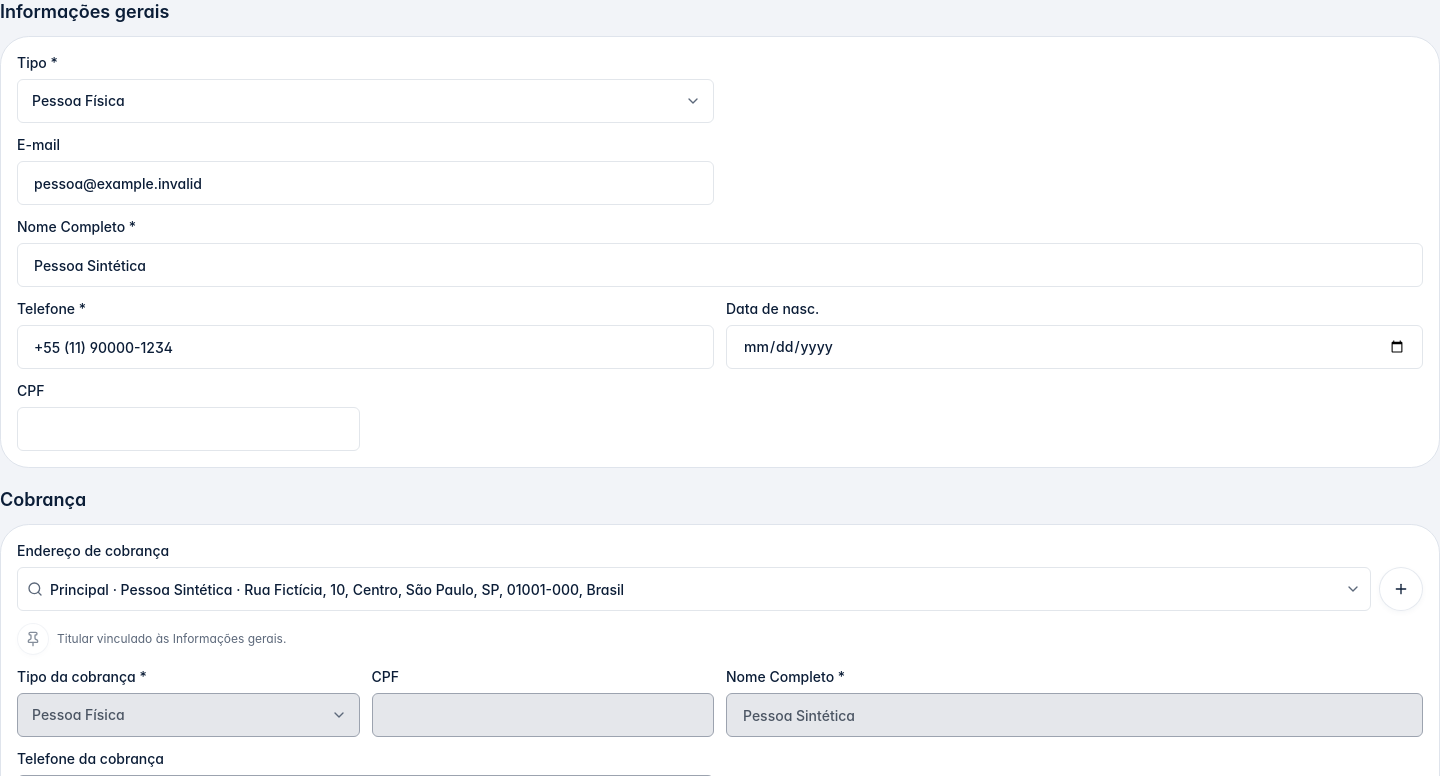
inclusão temporária e endereço postal único › recusa o mesmo endereço da Principal mesmo com CNPJ e titular diferentes
Click the button named "Adicionar endereço de cobrança": (1401, 589) x1=1379 y1=567 x2=1423 y2=611
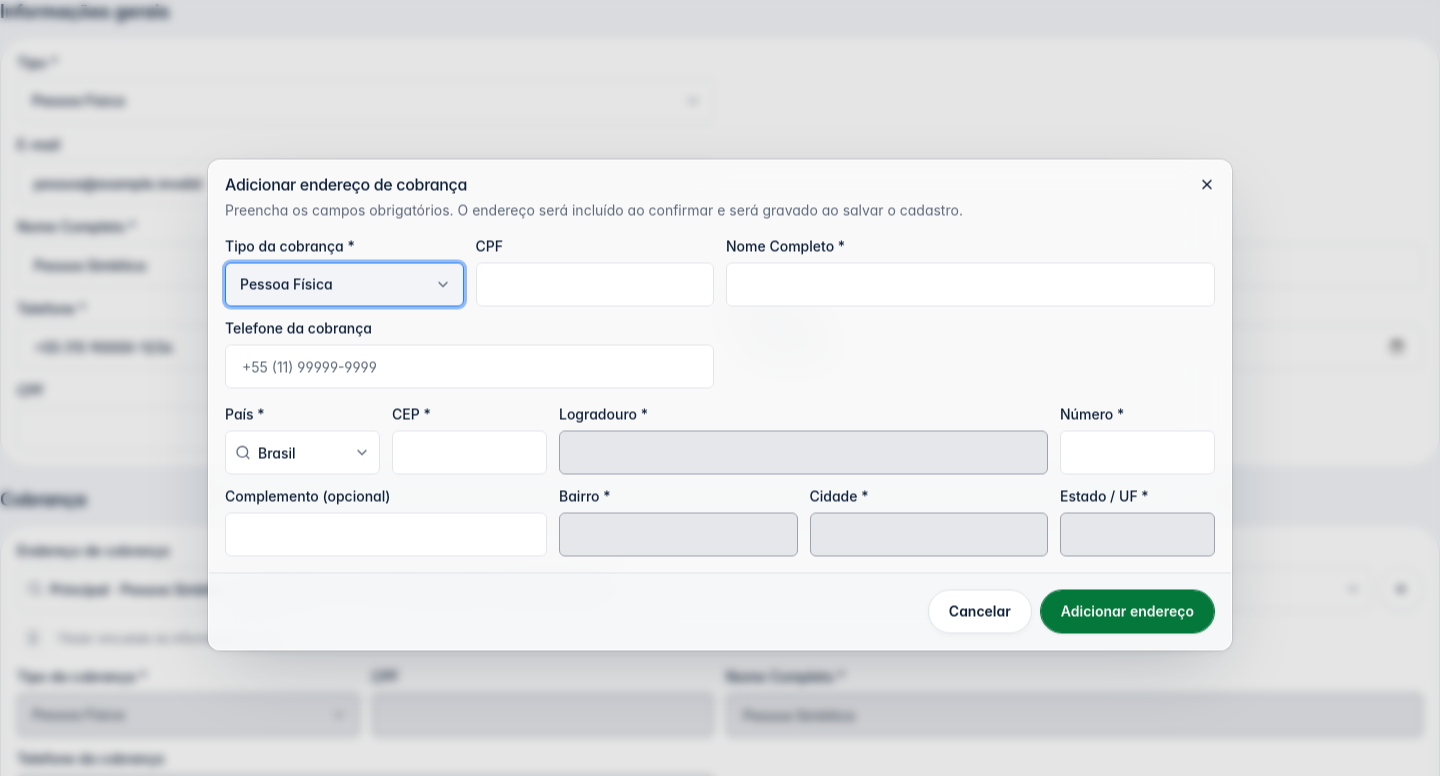
Click the dropdown named "Tipo da cobrança": (344, 284) x1=225 y1=262 x2=464 y2=306
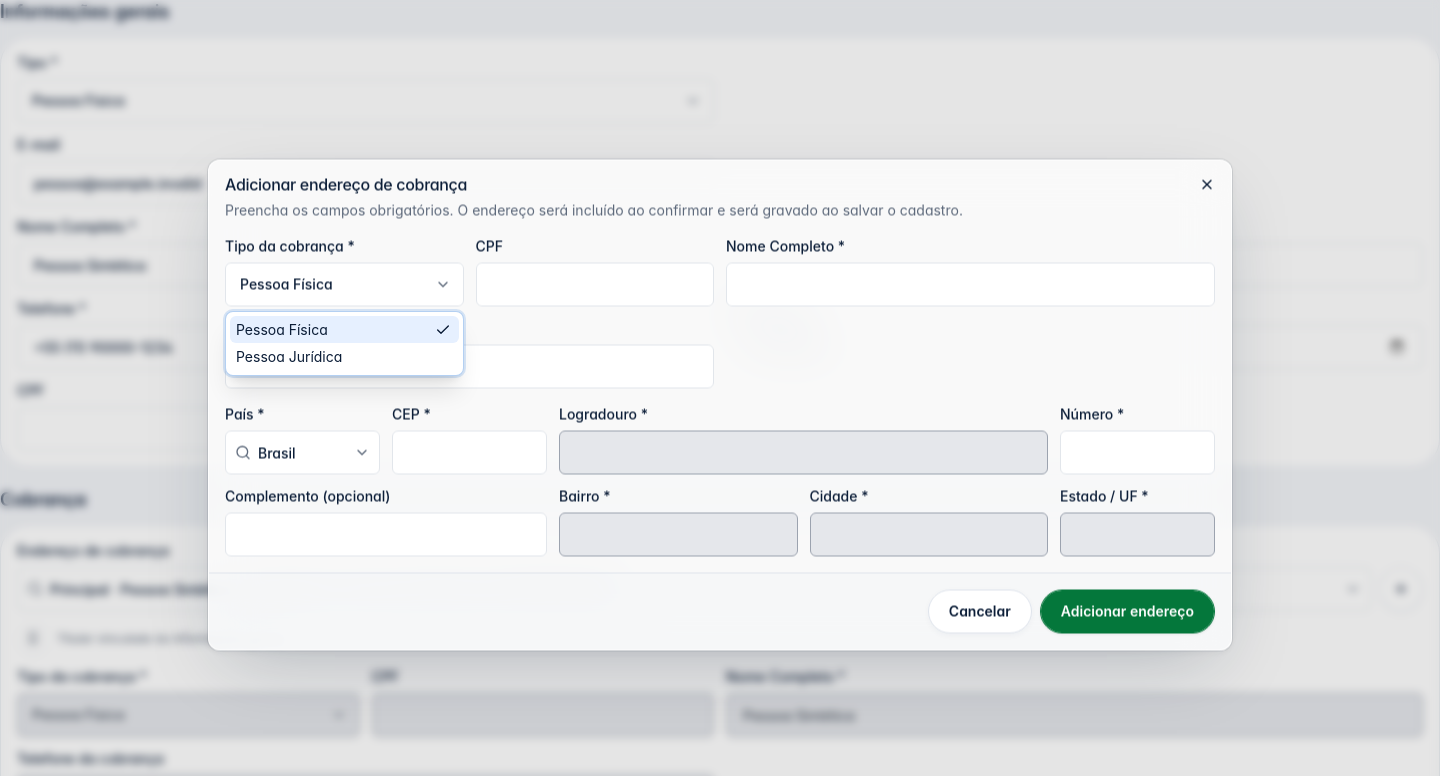
Click the option "Pessoa Jurídica": (289, 357) x1=236 y1=348 x2=342 y2=365
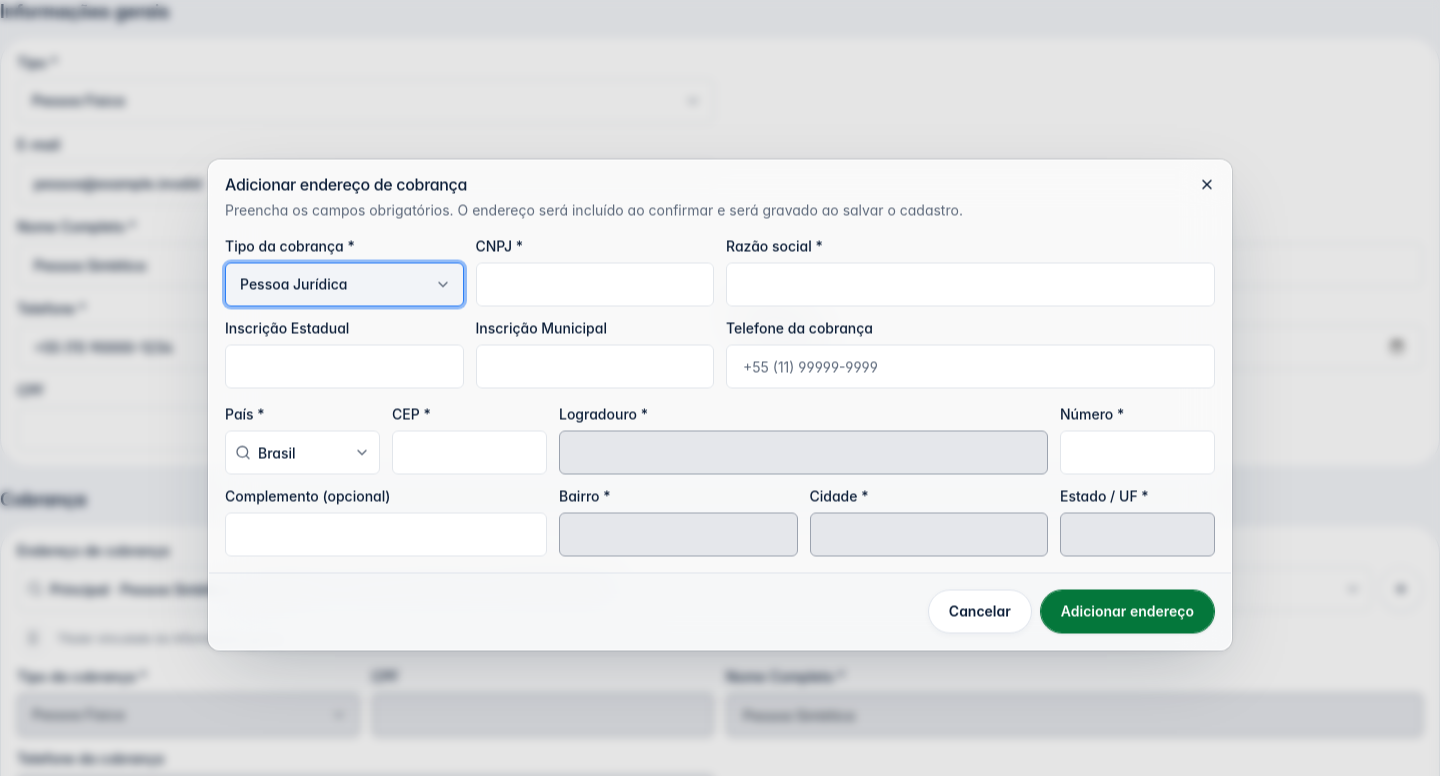
In the field labelled "CNPJ *": (595, 284) x1=476 y1=262 x2=714 y2=306, type "11222333000181"
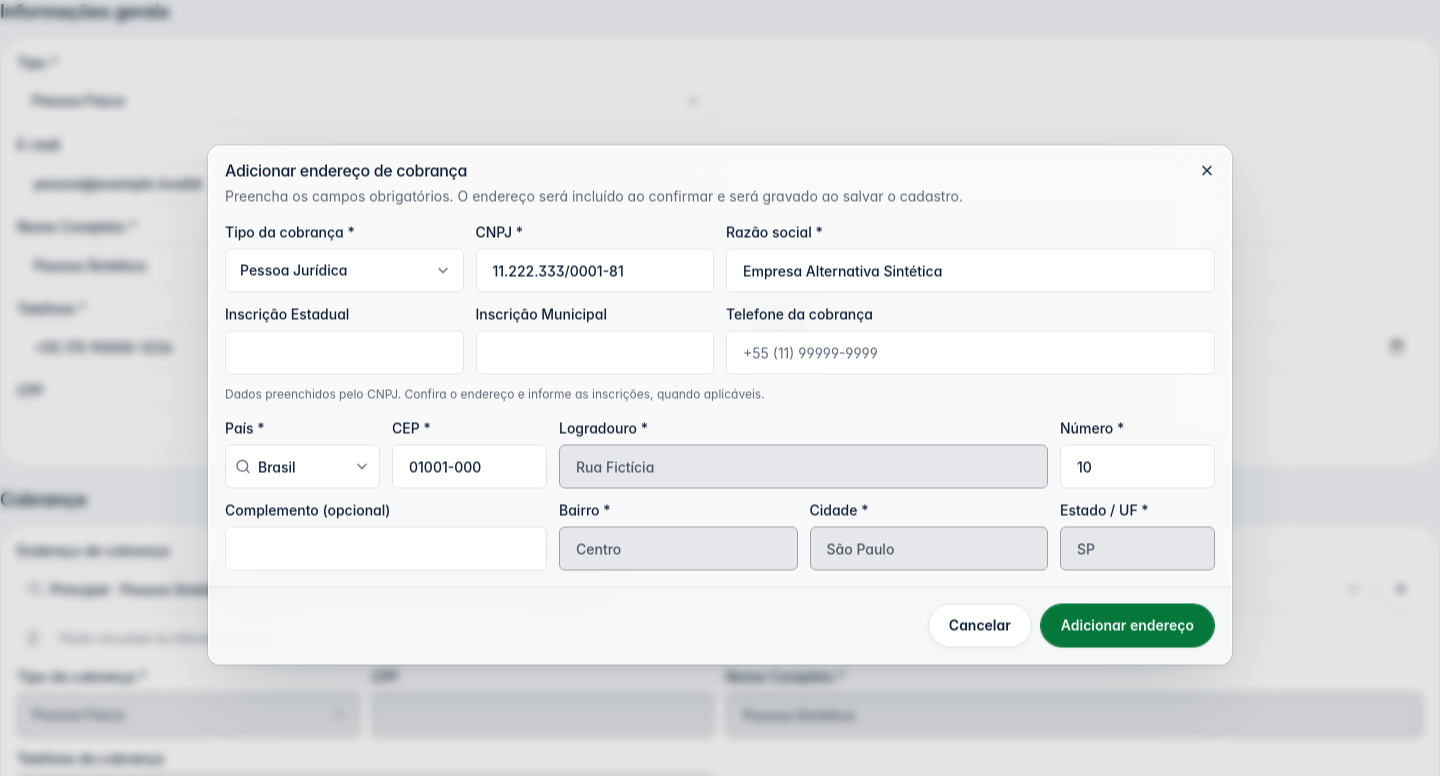
Expected: the field labelled "Razão social *" holds "Empresa Alternativa Sintética", x1=726 y1=248 x2=1215 y2=292
Click the button "Adicionar endereço": (1127, 626) x1=1040 y1=604 x2=1215 y2=648
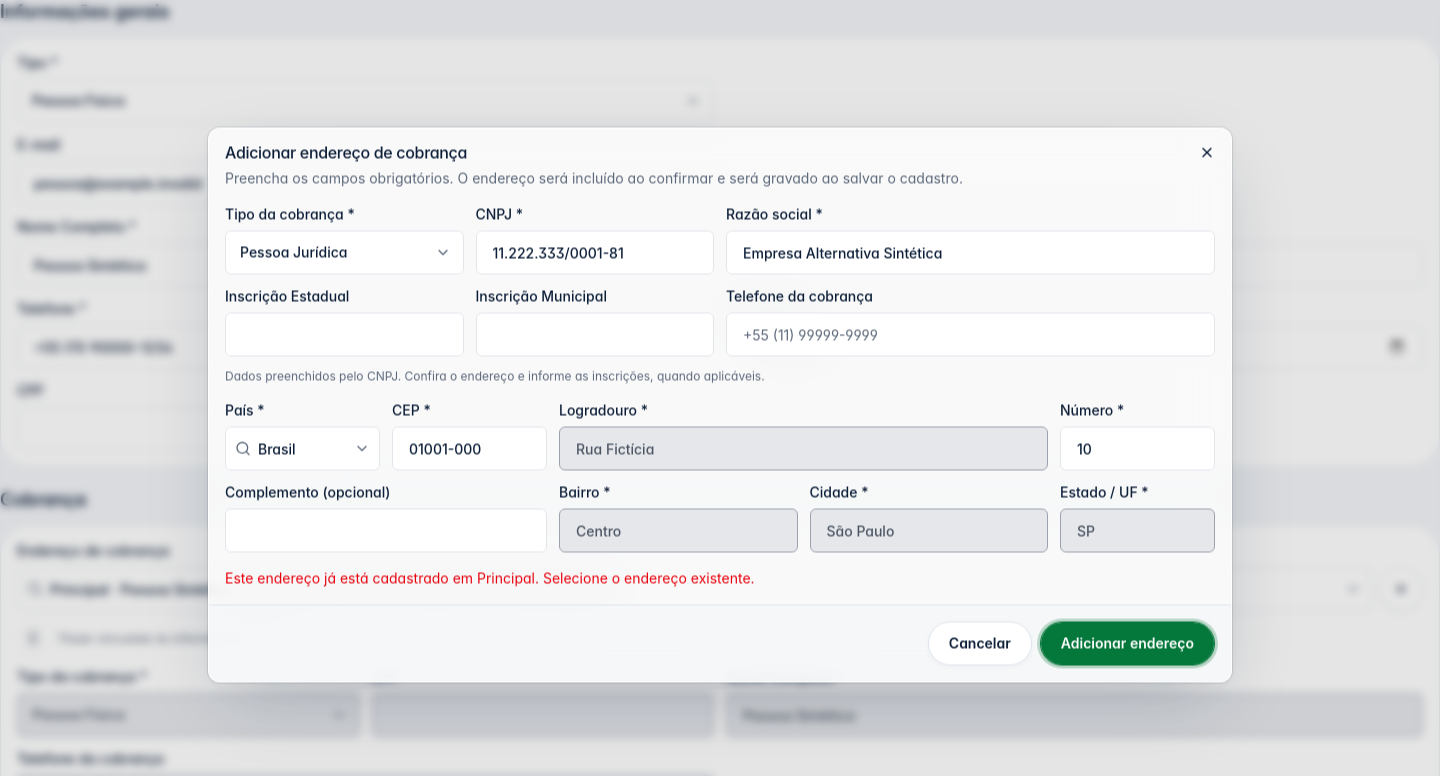
Expected: the message "Este endereço já está cadastrado em Principal. Selecione o endereço existente." is shown, x1=225 y1=570 x2=755 y2=586
